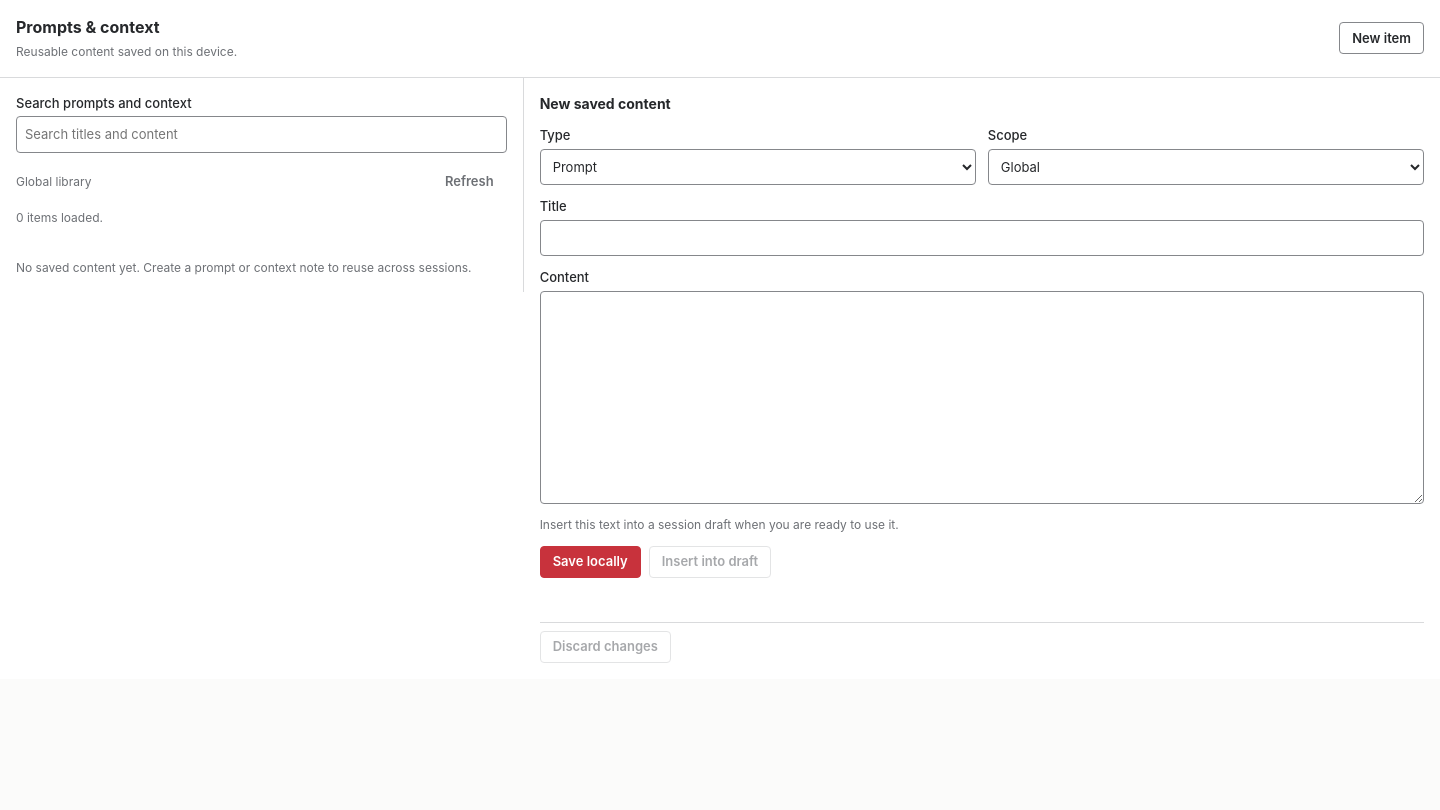
it: KnowledgePanel › ignores late search responses without replacing a newer result or editor draft
This screenshot has width=1440, height=810.
Type "Unfinished note" into the field labelled "Title".
click(982, 238); type("Unfinished note")  # box [540,220,1424,256]
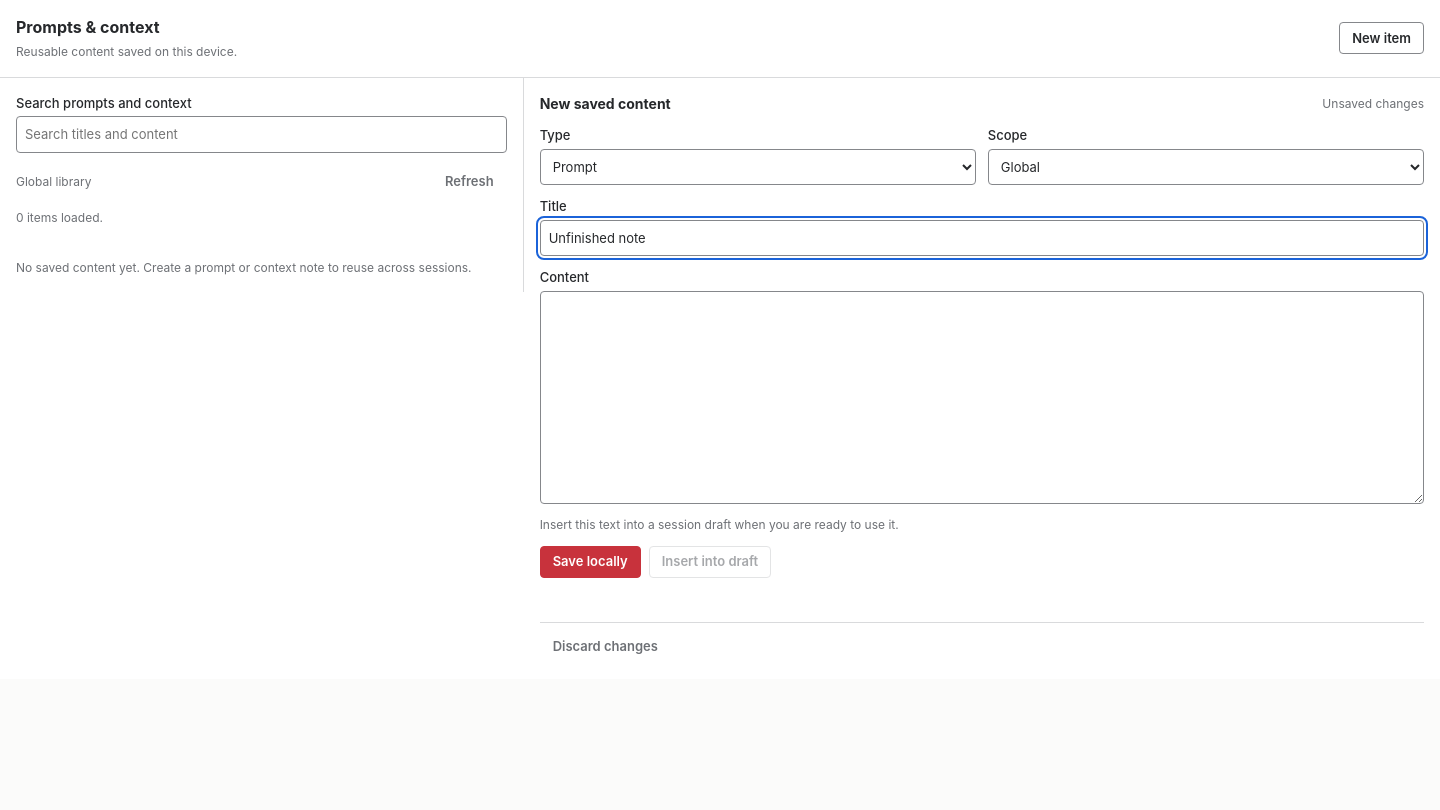
Type "old" into the search field.
click(261, 135); type("old")  # box [16,116,507,153]
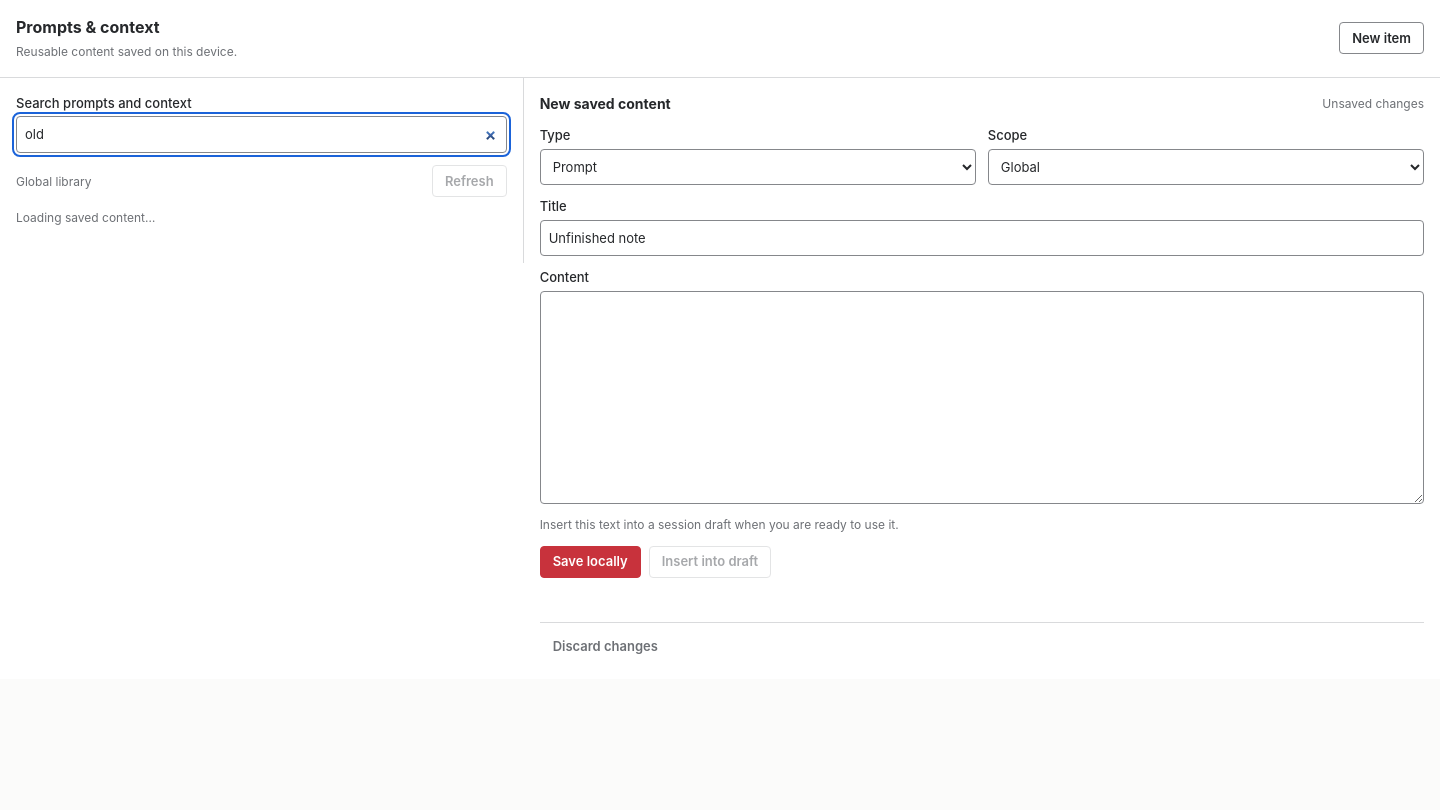
Replace the text in the search field with "new" at (261, 135), box [16,116,507,153]
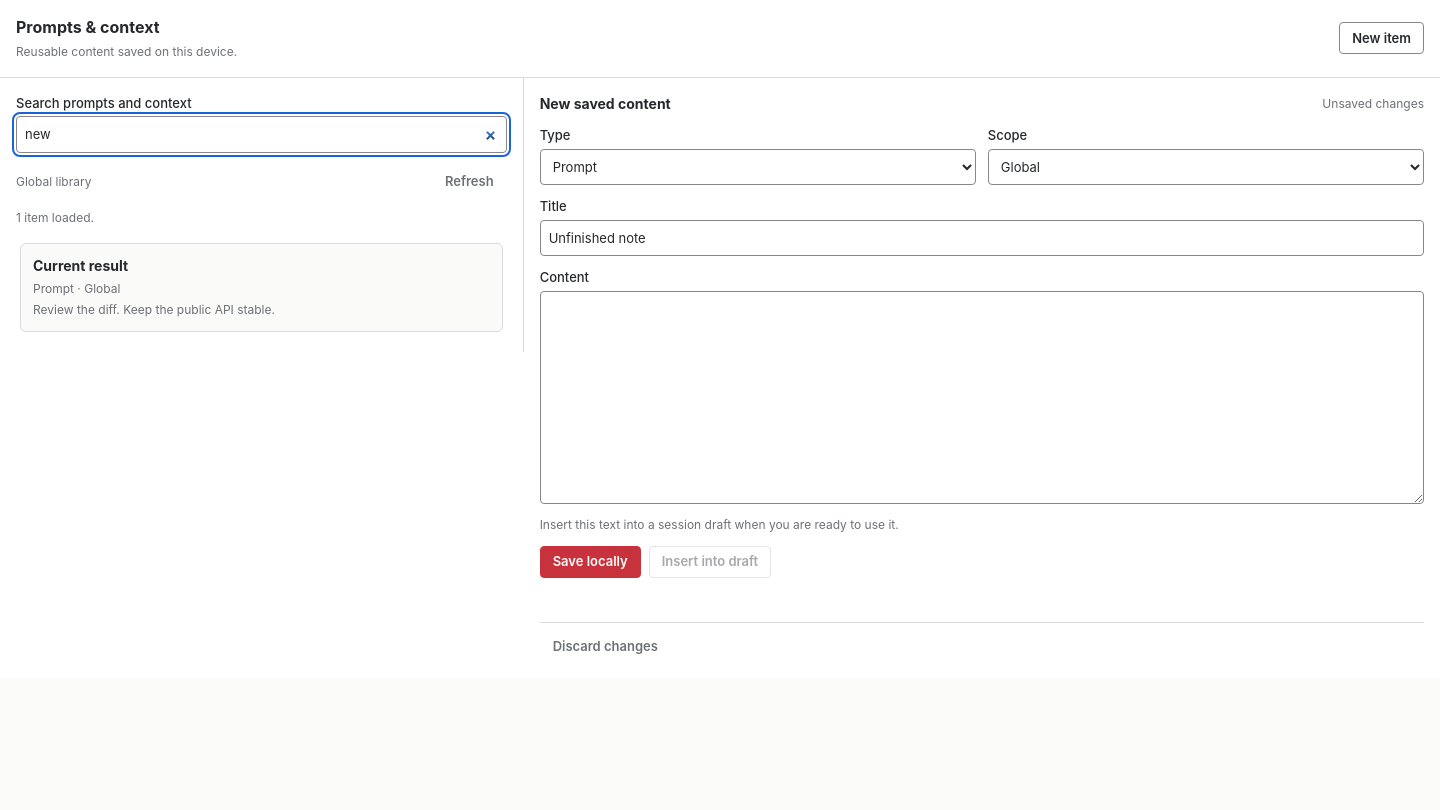
Expected: the button "Current result" is shown, [20,243,503,332]
